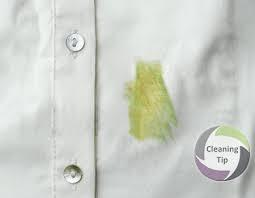earth: (129, 63, 175, 143)
